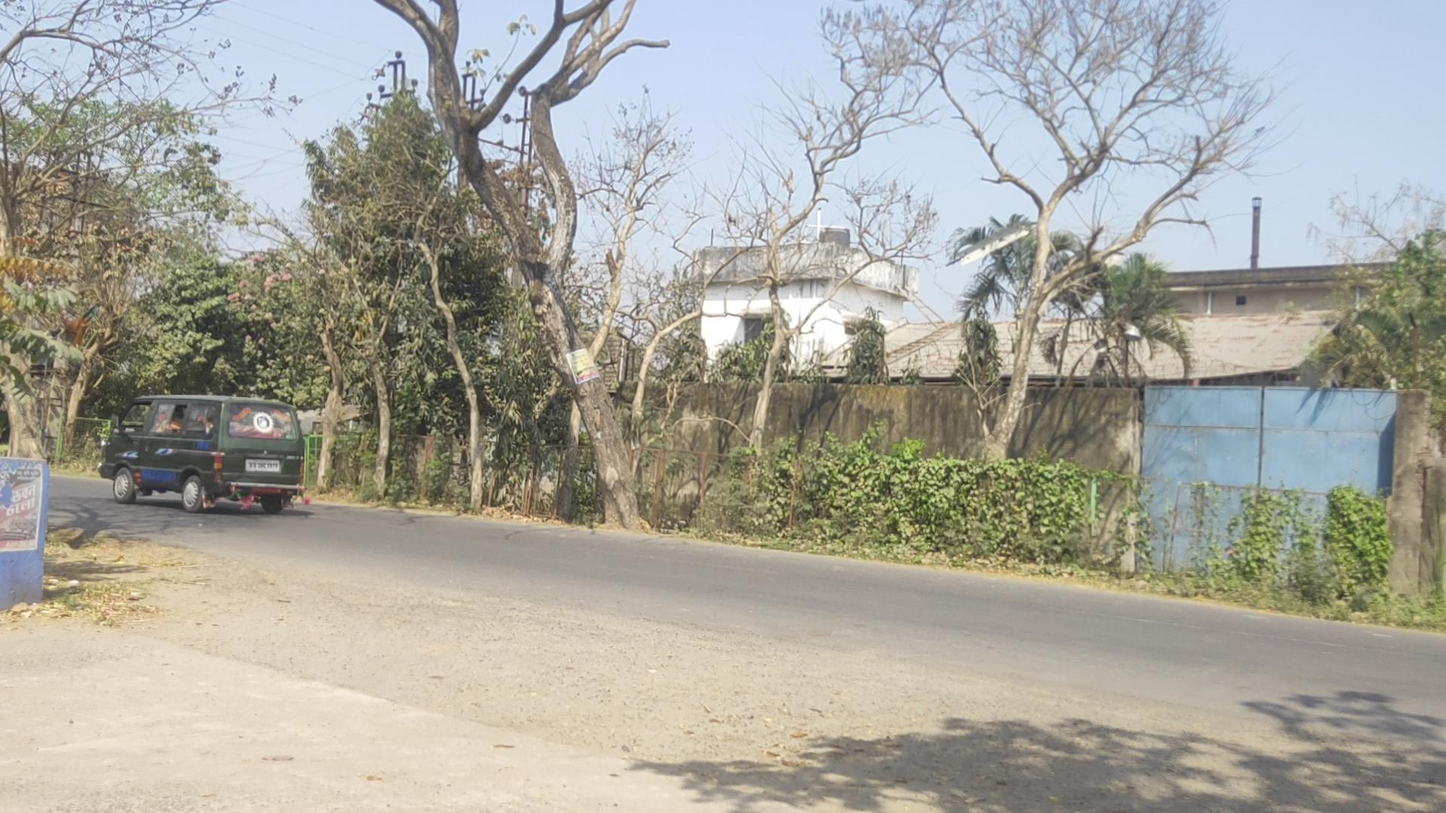van: (98, 394, 305, 515)
